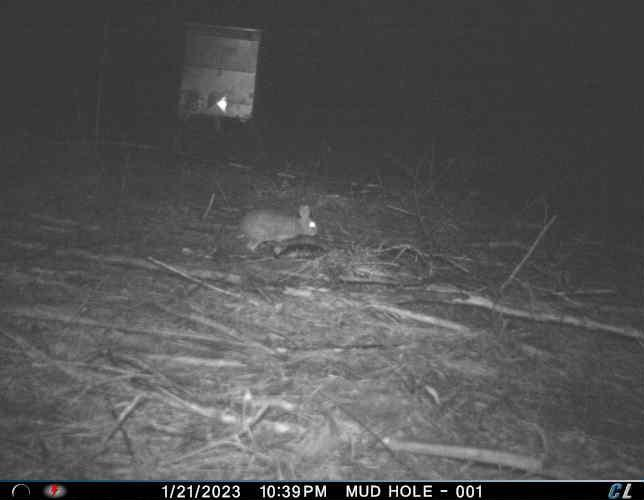Rabbit: (239, 204, 319, 257)
